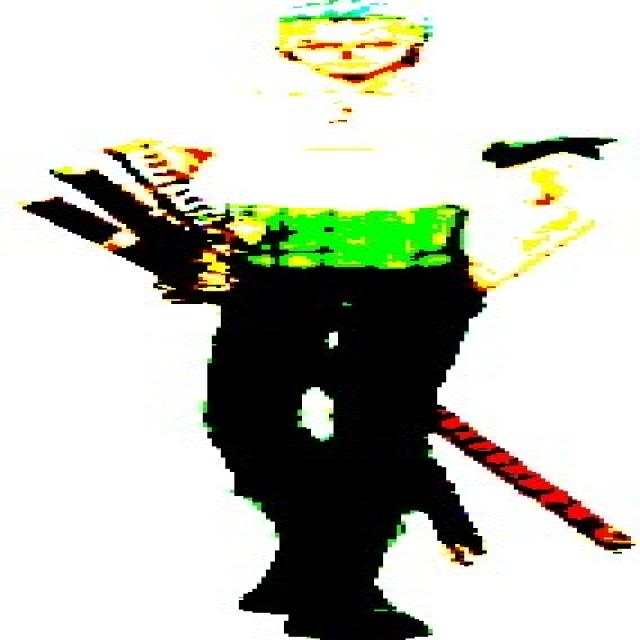Zoro: (23, 0, 635, 640)
